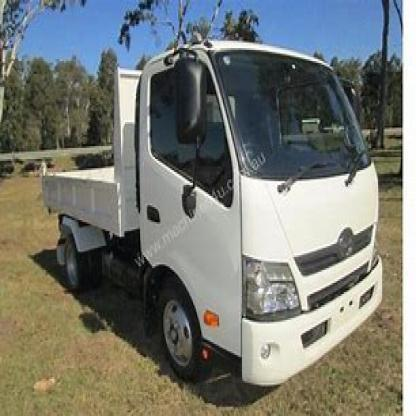dump_truck: (26, 19, 387, 386)
